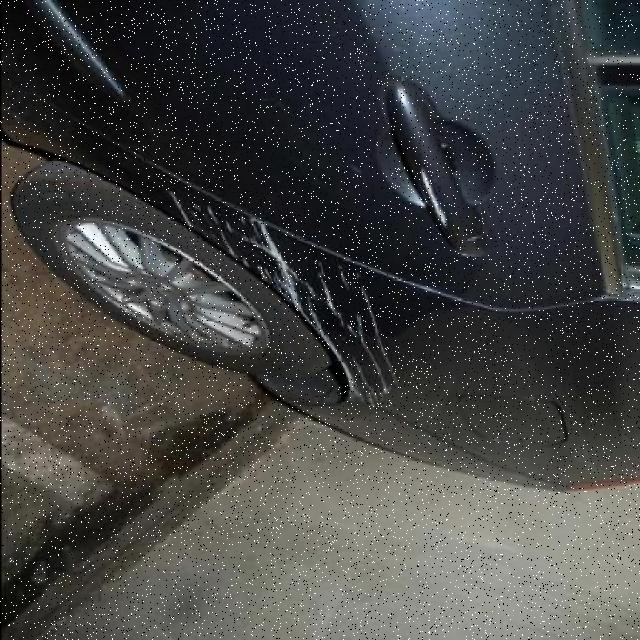damage: (172, 192, 396, 408)
